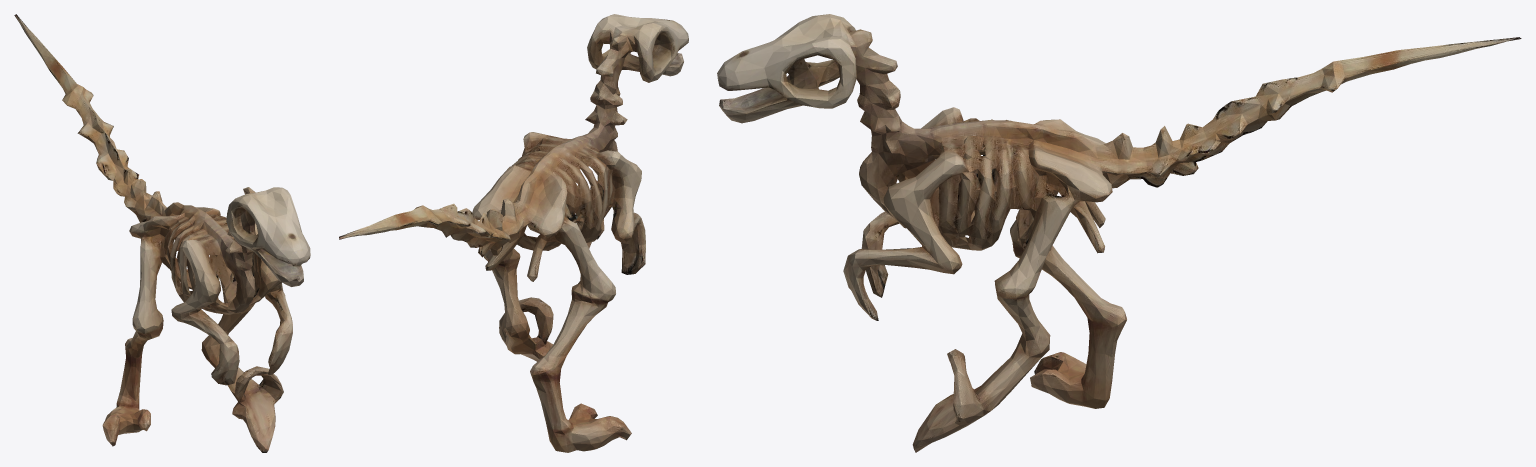
The model's file is velociraptor-skjelett.glb.
3 renders of one model, left to right at view 1: azimuth 30°, elevation 25°; view 2: azimuth 150°, elevation 25°; view 3: azimuth 270°, elevation 25°, orthographic. The views are drawn at different scales.
Parts seen in each view (by area): view 1: geometry_0; view 2: geometry_0; view 3: geometry_0.
Boxes of the visible parts, bbox=[...] form: geometry_0: bbox=[14, 14, 310, 452]; geometry_0: bbox=[339, 14, 688, 452]; geometry_0: bbox=[717, 14, 1521, 452].
Bounding box in the file's own units: 0.2887 × 0.5581 × 1.
Materials: 1 (1 with a texture image).
